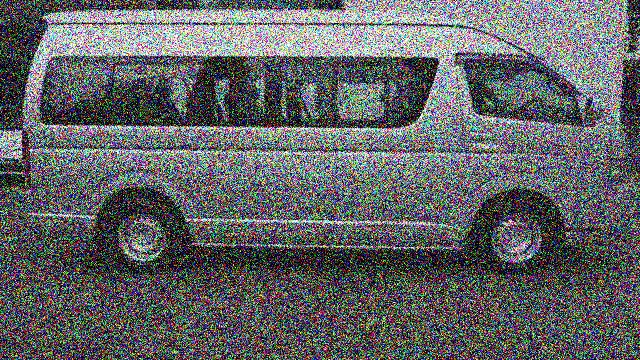van: (20, 9, 634, 268)
